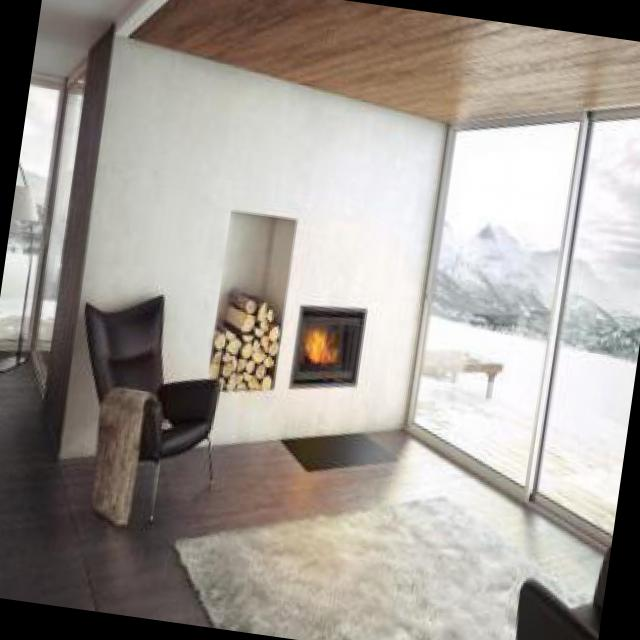fire: (297, 327, 348, 378)
